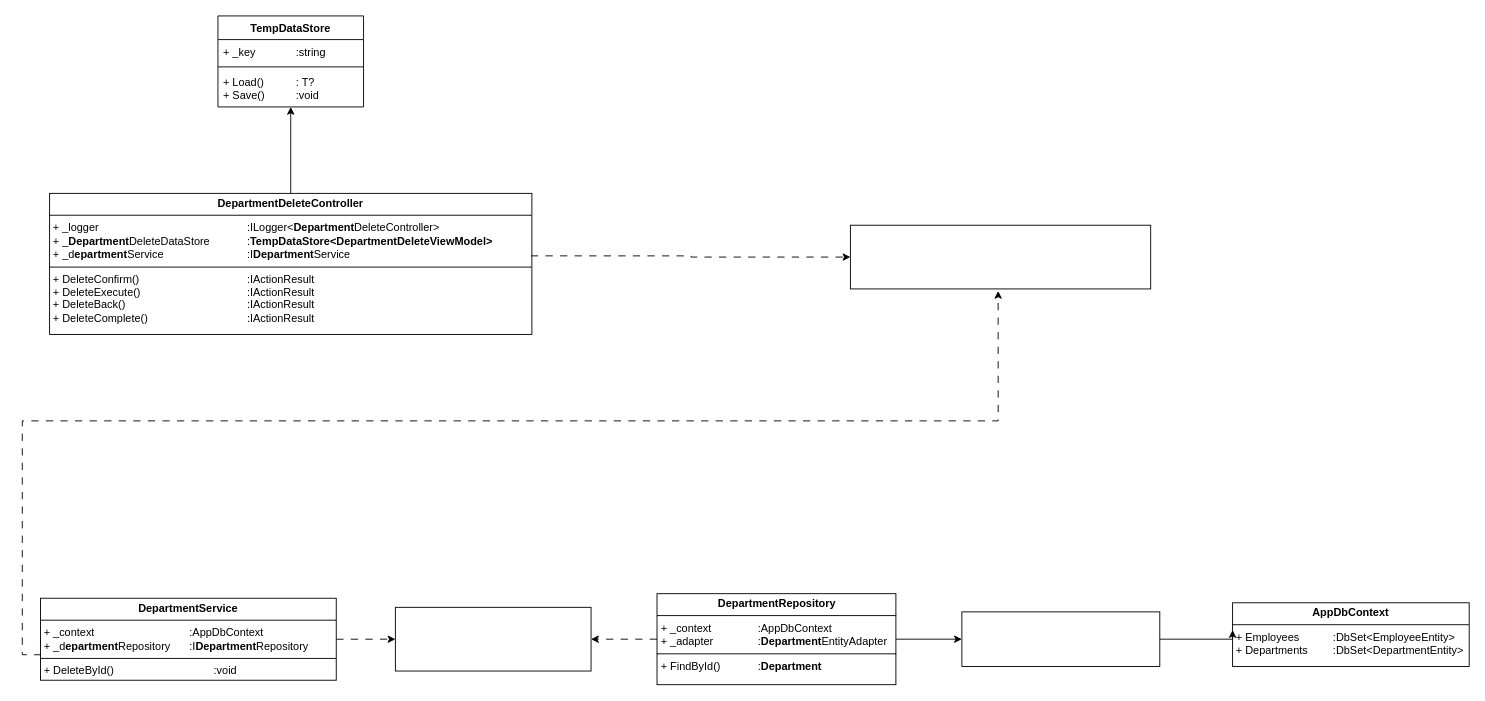
Some shapes in this 1485 by 701 pixel diagram are drawn without their labels. Each missing label, with the centre of its shape:
<<Interface>> I Department Repository + FindById() : Department: point 492,638
<<Interface>> I Department Service + DeleteById() :void: point 1000,256
DepartmentEntityAdapter + ReStore() : Department Entity: point 1060,638
